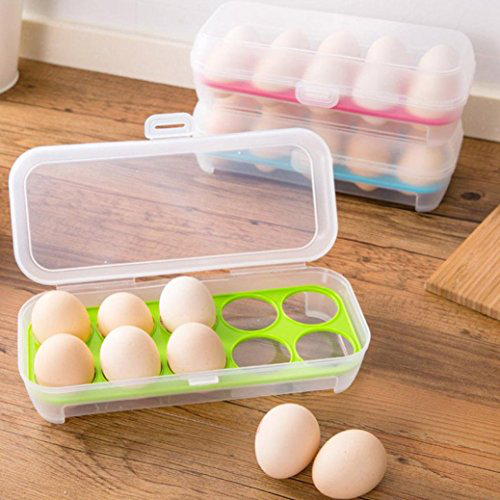egg: (25, 274, 232, 387), (253, 403, 389, 497)
